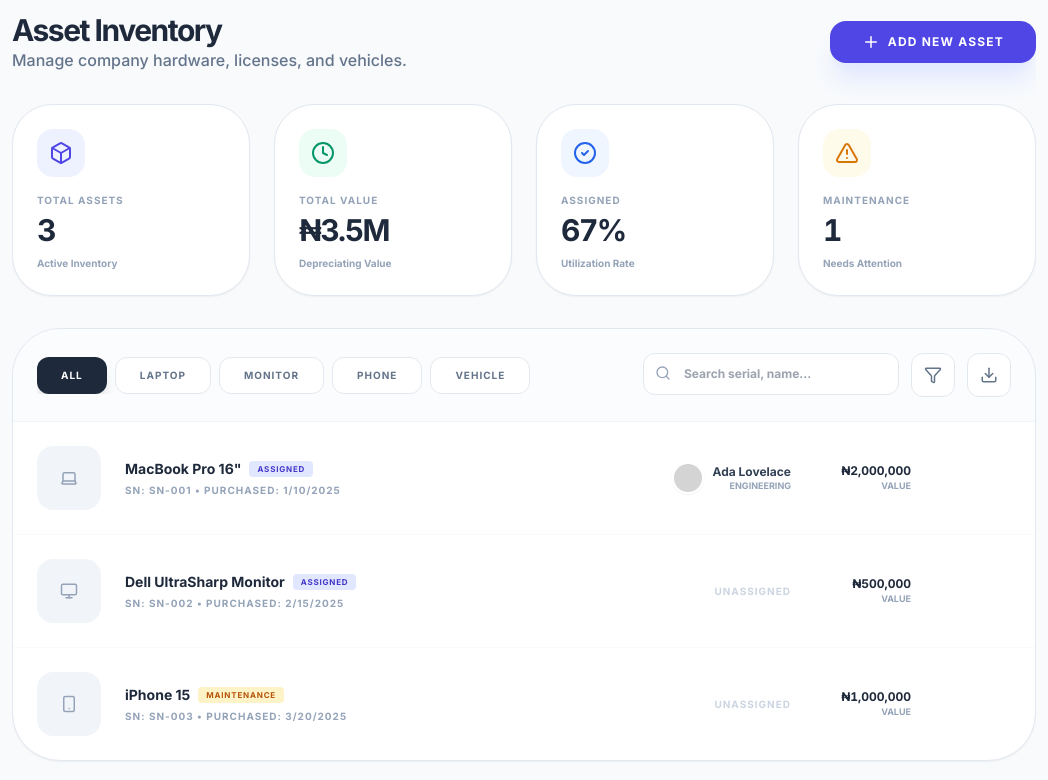
Scenario: AssetManagement › filters by category via the toolbar chips
Expected: the heading "MacBook Pro 16\"" is shown, [125, 458, 242, 478]
Expected: the heading "iPhone 15" is shown, [125, 684, 190, 704]
What coordinates should you click on to do the following:
click the button "Phone"
I would click on:
 (377, 375)
Its box is [332, 356, 422, 394].
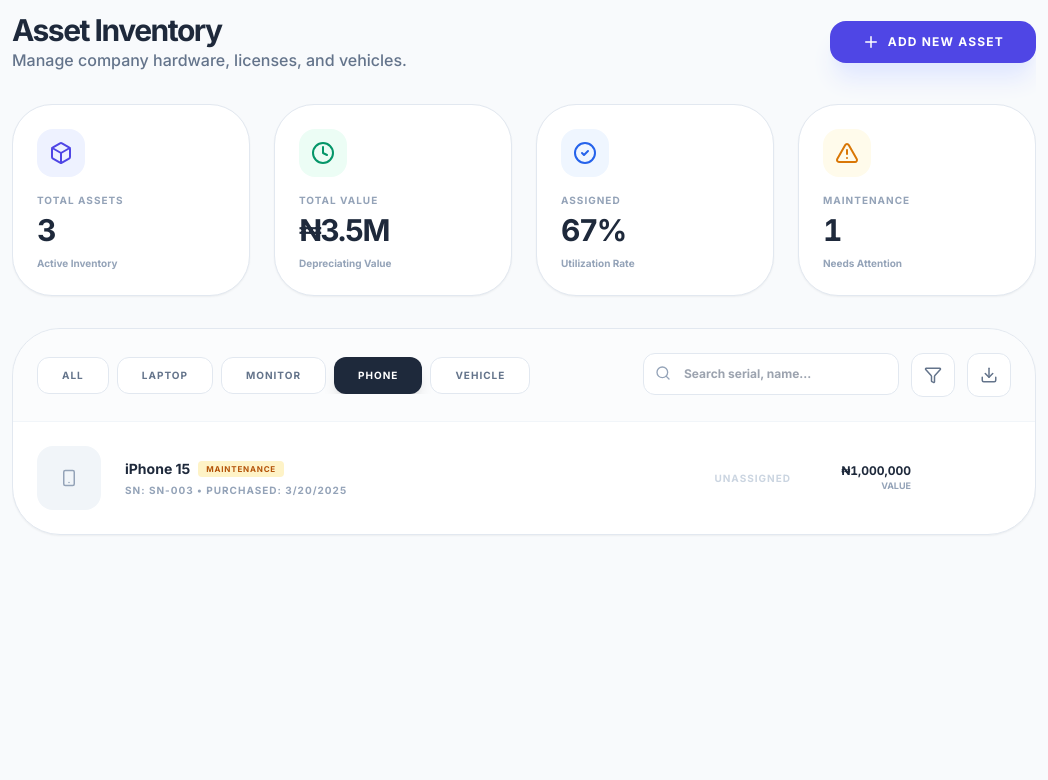
Expected: the heading "iPhone 15" is shown, [125, 458, 190, 478]
Expected: the heading "MacBook Pro 16\"" is gone
